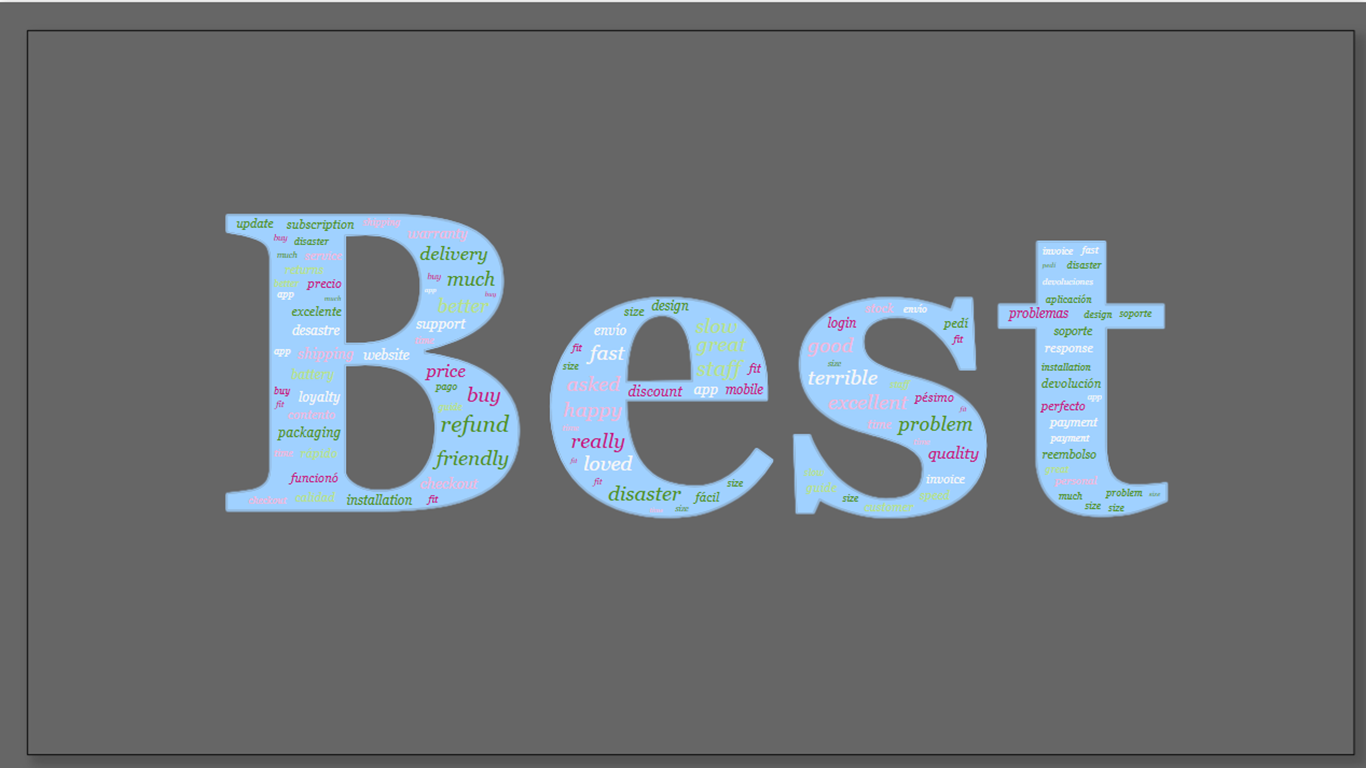

Layout of this report page (visuals, bound fields, positions):
{"tool":"powerbi","page":{"name":"Page 2","canvas":[1280,720],"ordinal":1},"visuals":[{"type":"wordCloudTCVizB25C9426AD9548F19EB64B83E0BD386E_test","fields":{"size":["Count(wordcloud_comentarios.CommentID)"],"text":["wordcloud_comentarios.Comment"],"colorBy":["wordcloud_comentarios.Sentiment"]},"box":[25,26.4,1244.4,681.9],"z":0}]}

Visuals, with their boxes in screenshot pixels (x1, y1, x2, y2), scaled from the page's 1280x720 canvas onto the 1366x768 screenshot:
wordCloudTCVizB25C9426AD9548F19EB64B83E0BD386E_test - Count(wordcloud_comentarios.CommentID) x wordcloud_comentarios.Comment: box(27, 28, 1355, 756)
